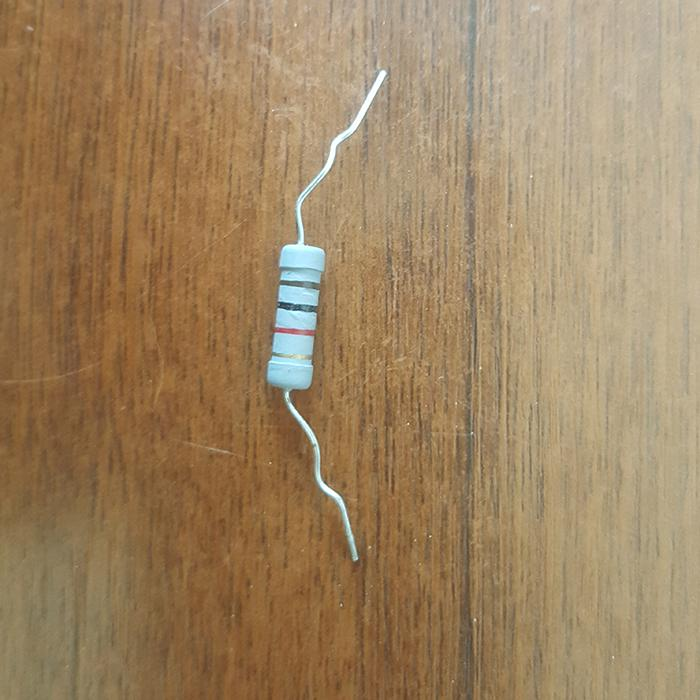resistor: (266, 244, 325, 389)
